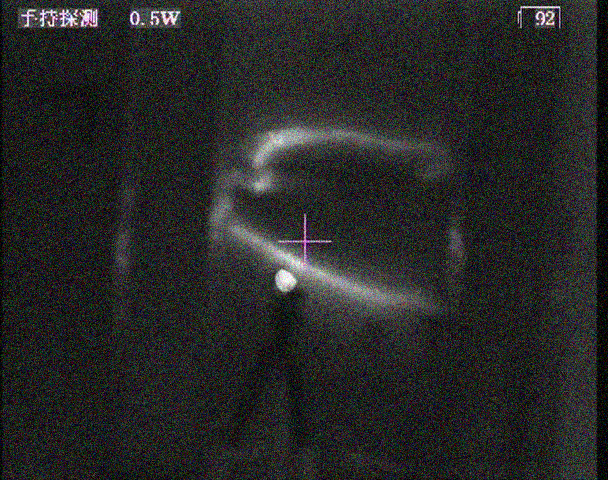my: (271, 270, 301, 294)
